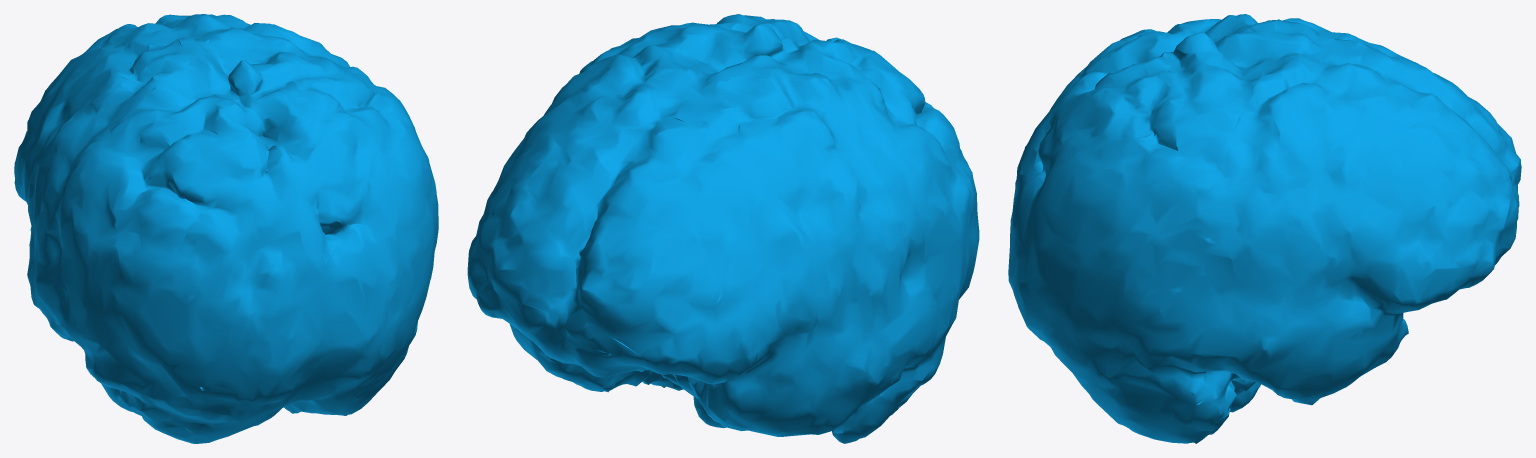
Rendered from brain_model_from_mri_simplified.glb.
3 renders of one model, left to right at view 1: azimuth 30°, elevation 25°; view 2: azimuth 150°, elevation 25°; view 3: azimuth 270°, elevation 25°, orthographic. The views are drawn at different scales.
Visible parts, largest first — view 1: Object_4; view 2: Object_4; view 3: Object_4.
Part boxes in pixels (x1,y1,x2,y2): Object_4: [14, 14, 438, 443]; Object_4: [467, 14, 979, 443]; Object_4: [1008, 14, 1521, 443].
Size of the model in its own units: 0.1459 by 0.1388 by 0.1758.
